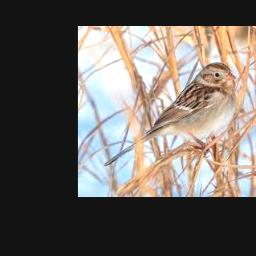Sparrow: (104, 62, 237, 167)
